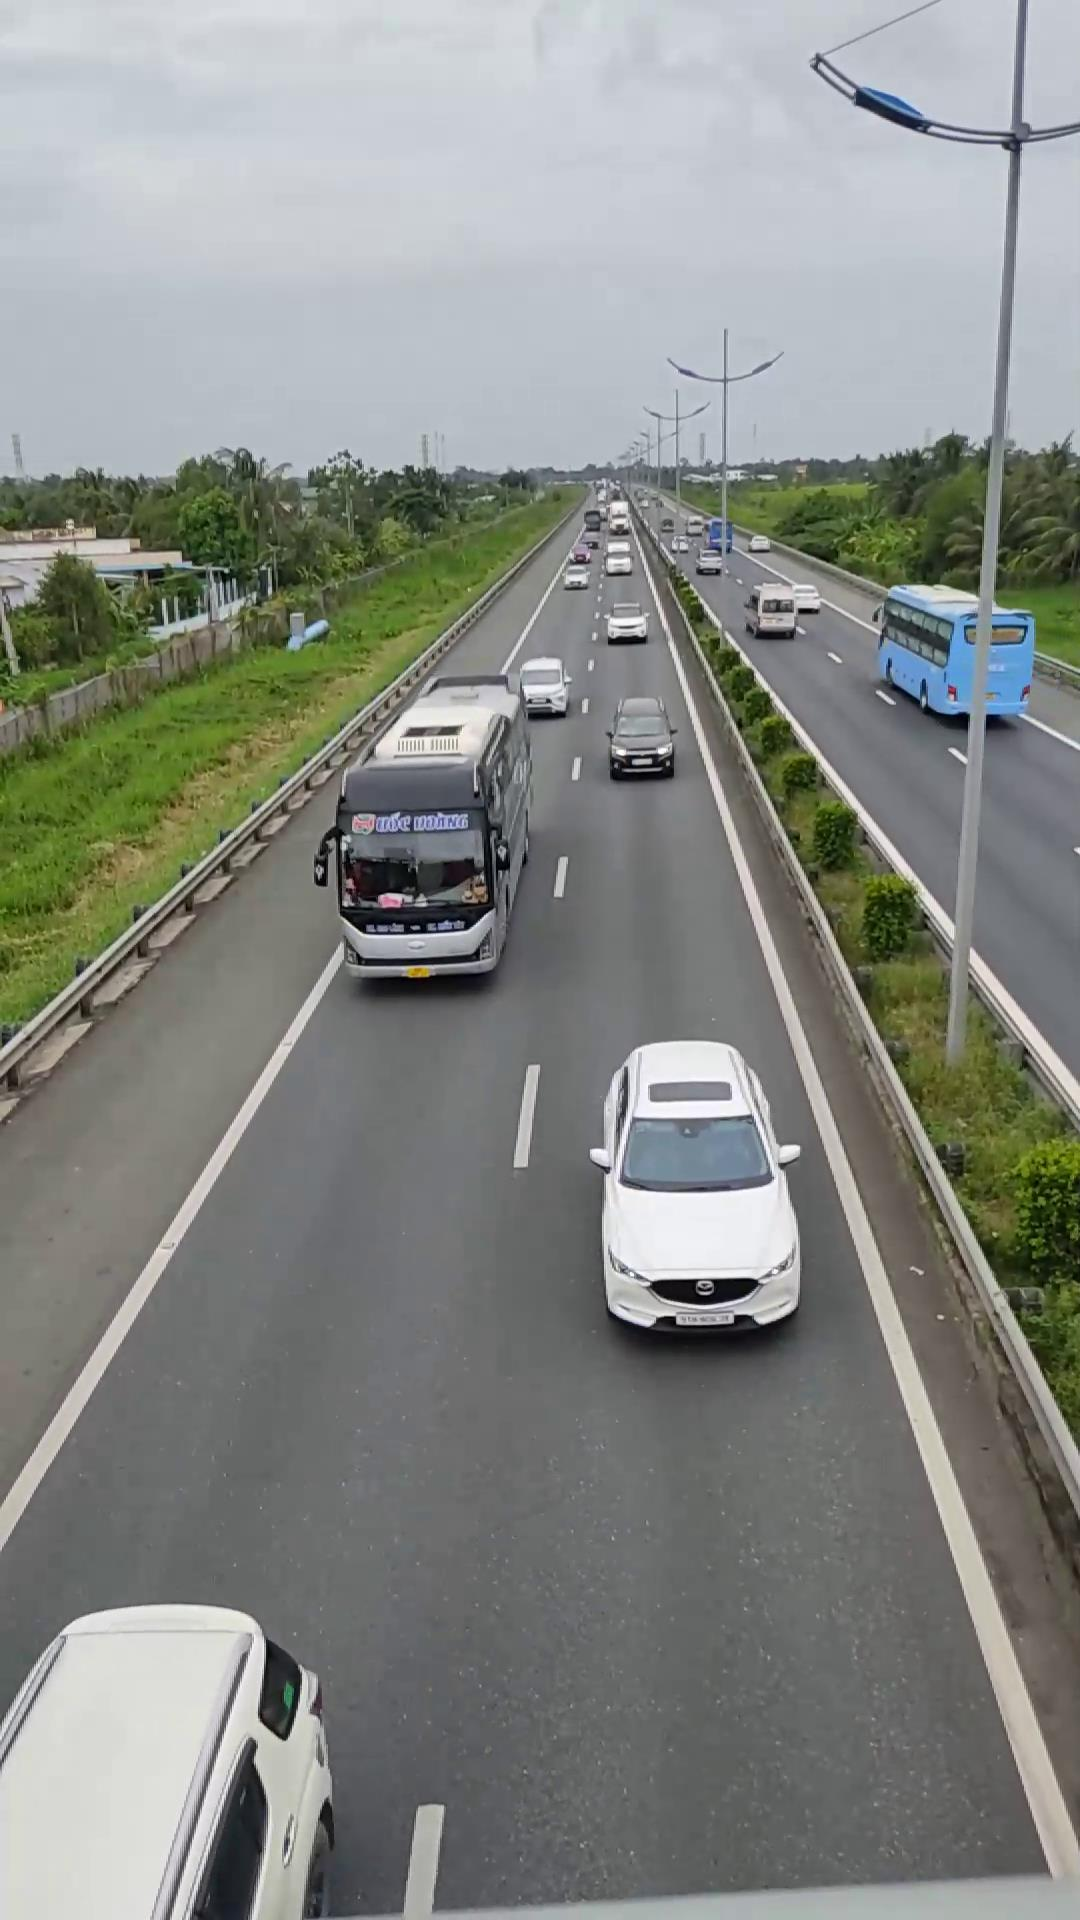bus: (314, 670, 538, 982)
car: (0, 1598, 340, 1919), (589, 1040, 808, 1338), (604, 695, 679, 777), (508, 655, 576, 716)
